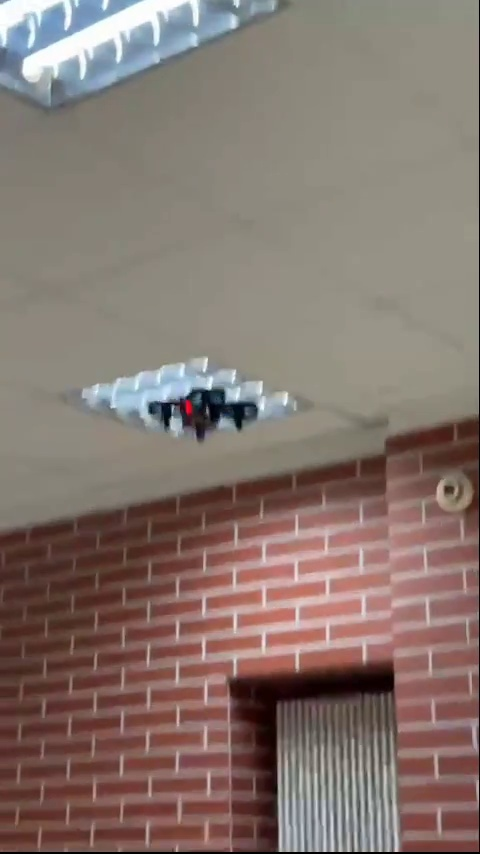drone: (148, 387, 260, 439)
